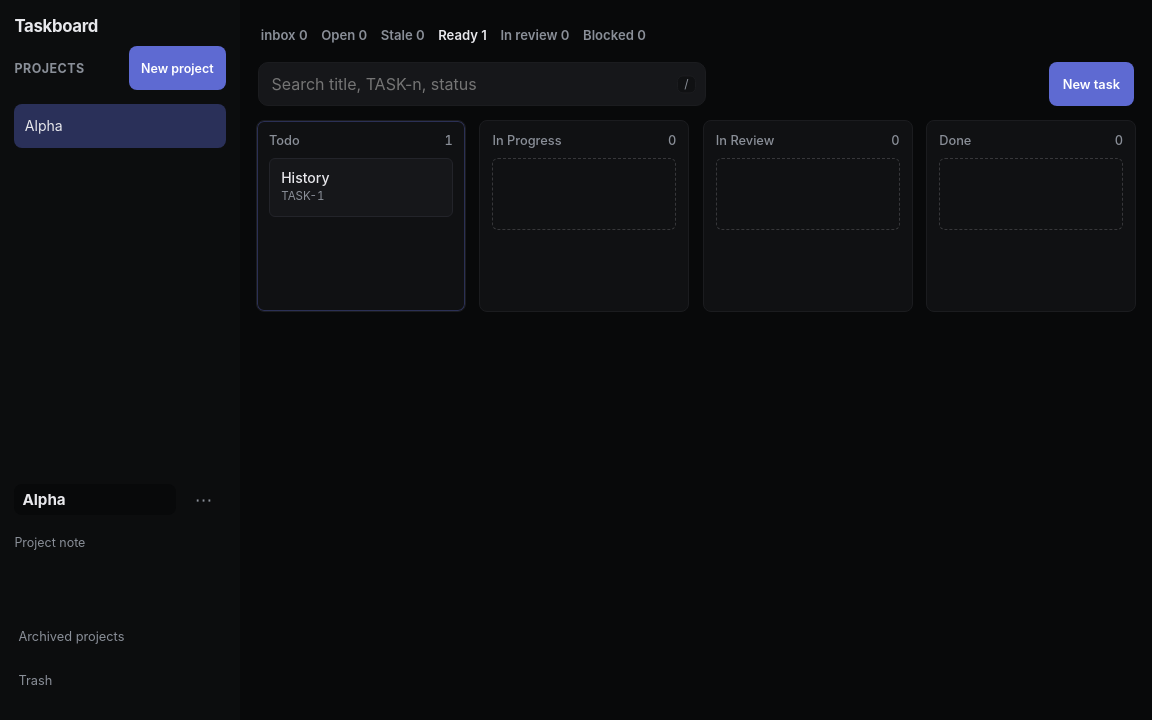
Scenario: Inspector history › shows readable run and activity rows
What coordinates should you click on to do the following:
click the text "History"
I would click on:
 (305, 178)
Its box is [281,169,330,186].
(page scrolled)
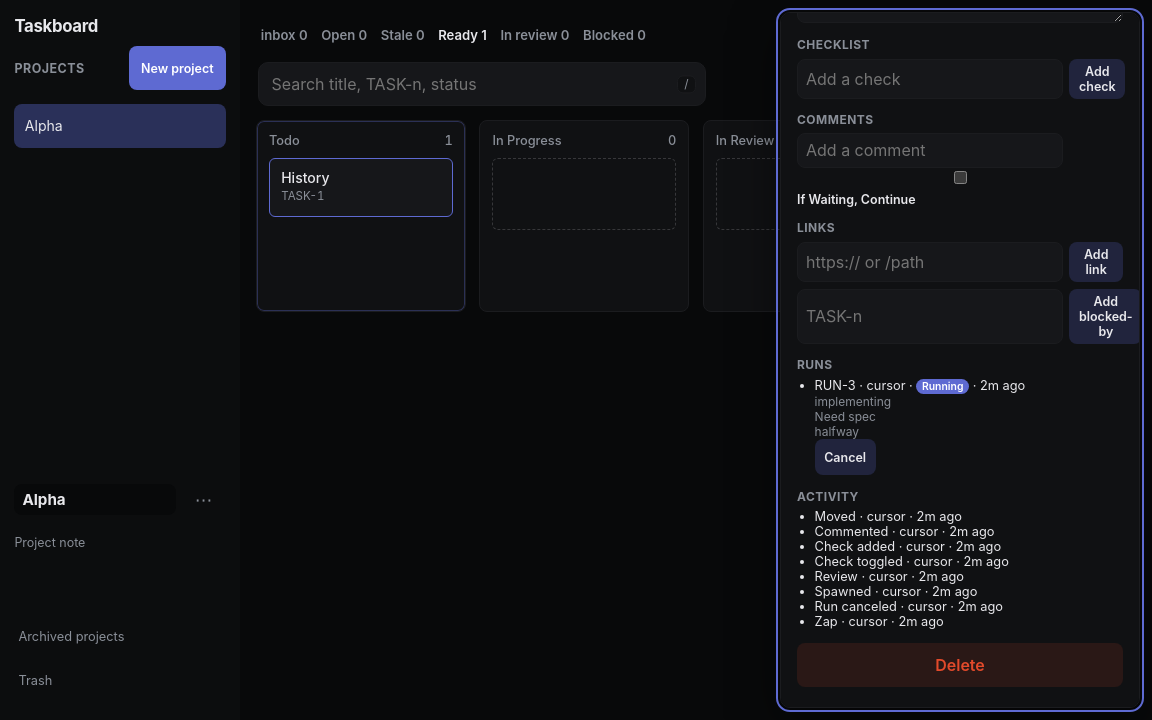
Result: the text "implementing" is shown at [815,394,891,409]
Result: the text "Need spec" is shown at [815,409,876,424]
Result: the text "halfway" is shown at [815,424,859,439]
